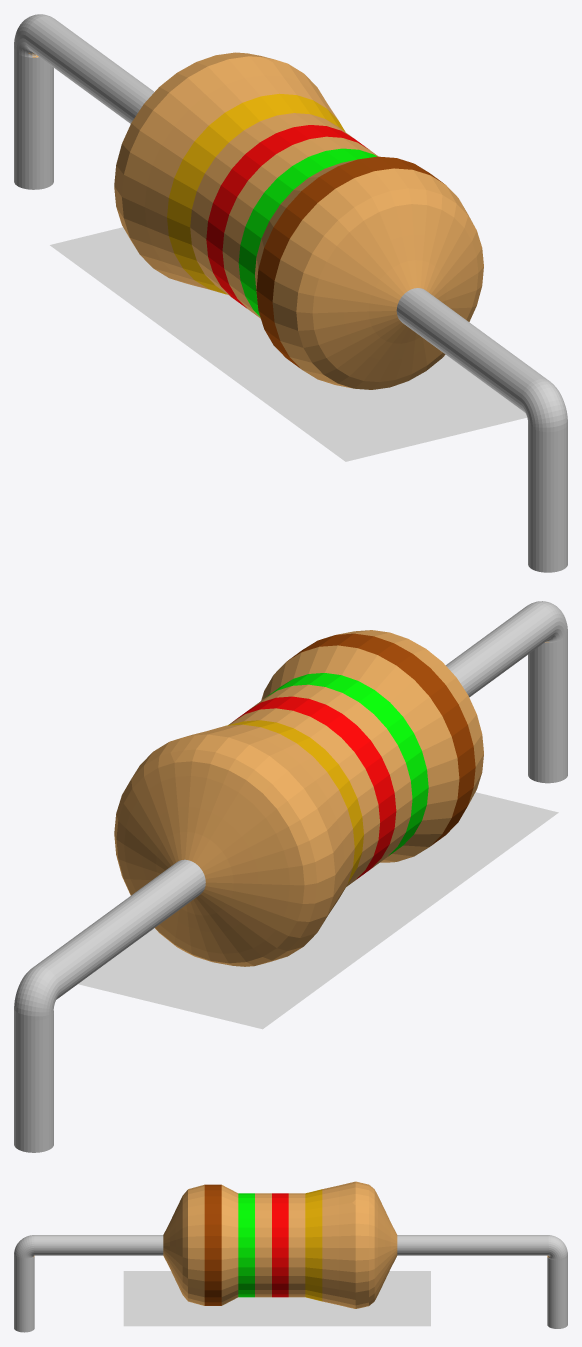
Rendered from R2_tan_1.gltf.
3 views of the same model, one above another, from view 1: azimuth 30°, elevation 25°; view 2: azimuth 150°, elevation 25°; view 3: azimuth 270°, elevation 25° (orthographic). The views are drawn at different scales.
Visible parts, largest first — view 1: R2_tan_1, R2_tan_1_plane; view 2: R2_tan_1, R2_tan_1_plane; view 3: R2_tan_1, R2_tan_1_plane.
Boxes of the visible parts, <box> form: R2_tan_1: <box>14,14,567,572</box>; R2_tan_1_plane: <box>50,227,527,461</box>; R2_tan_1: <box>14,601,567,1152</box>; R2_tan_1_plane: <box>78,792,558,1029</box>; R2_tan_1: <box>14,1181,567,1332</box>; R2_tan_1_plane: <box>123,1271,430,1326</box>.
Size of the model in its own units: 0.0161 by 0.0189 by 0.0676.
